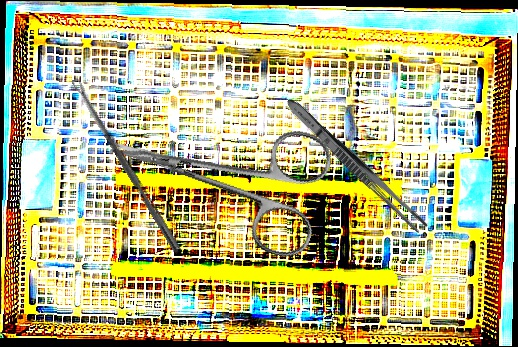Dressing Forceps: (281, 94, 431, 236)
Iris Scissors: (93, 81, 339, 263)
Surgical Spoon: (71, 76, 183, 255)
